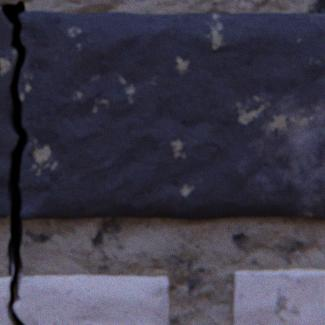brick: (232, 268, 324, 324)
broken_brick: (18, 11, 324, 219), (14, 274, 167, 324), (0, 10, 18, 217), (0, 276, 13, 324)
crack: (0, 0, 27, 324)
